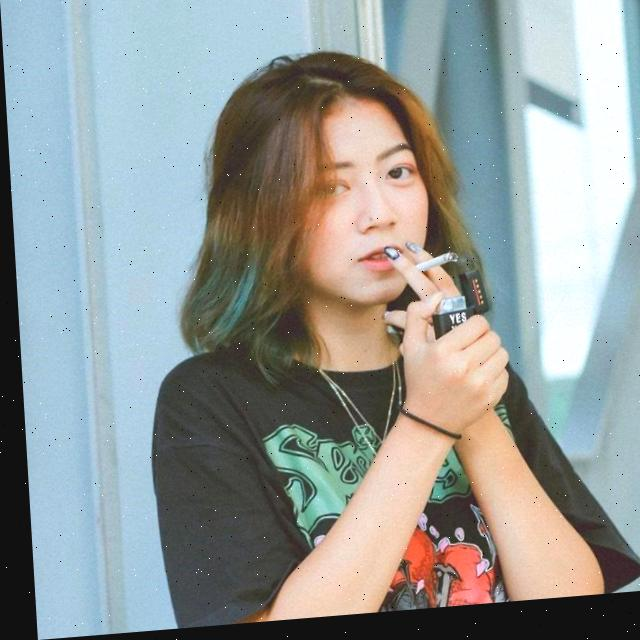cigarette: (410, 259, 455, 280)
